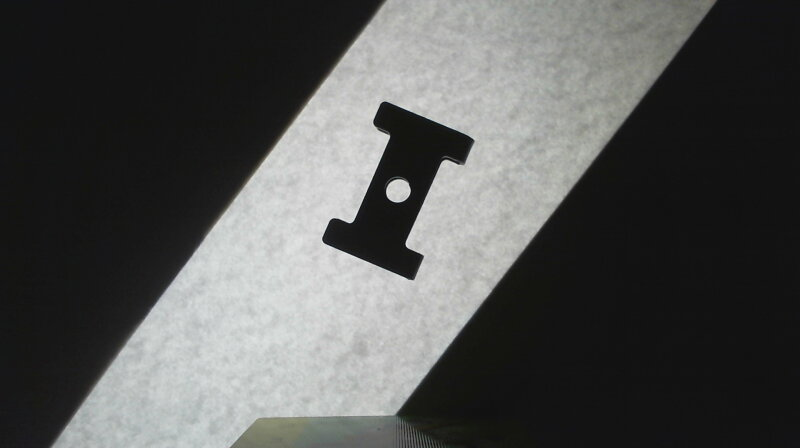O002: (318, 99, 476, 283)
